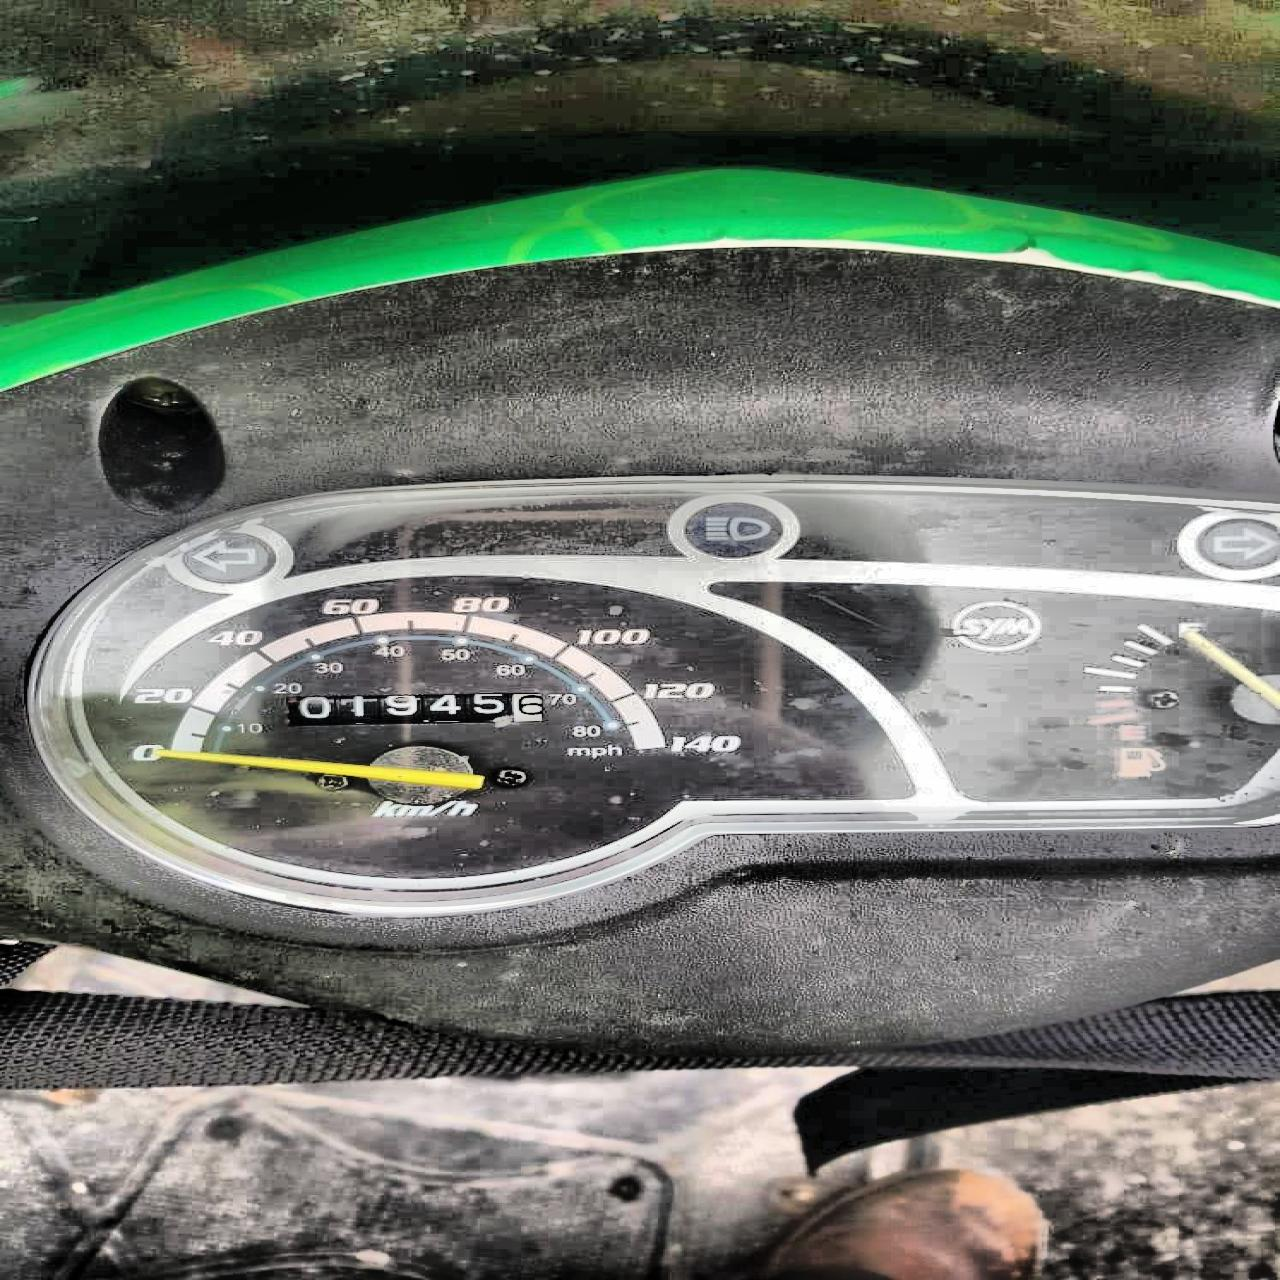0: (294, 695, 332, 723)
1: (346, 692, 370, 720)
4: (427, 693, 463, 714)
5: (471, 690, 504, 716)
6: (515, 693, 543, 717)
9: (380, 692, 420, 720)
odometer: (279, 689, 549, 728)
